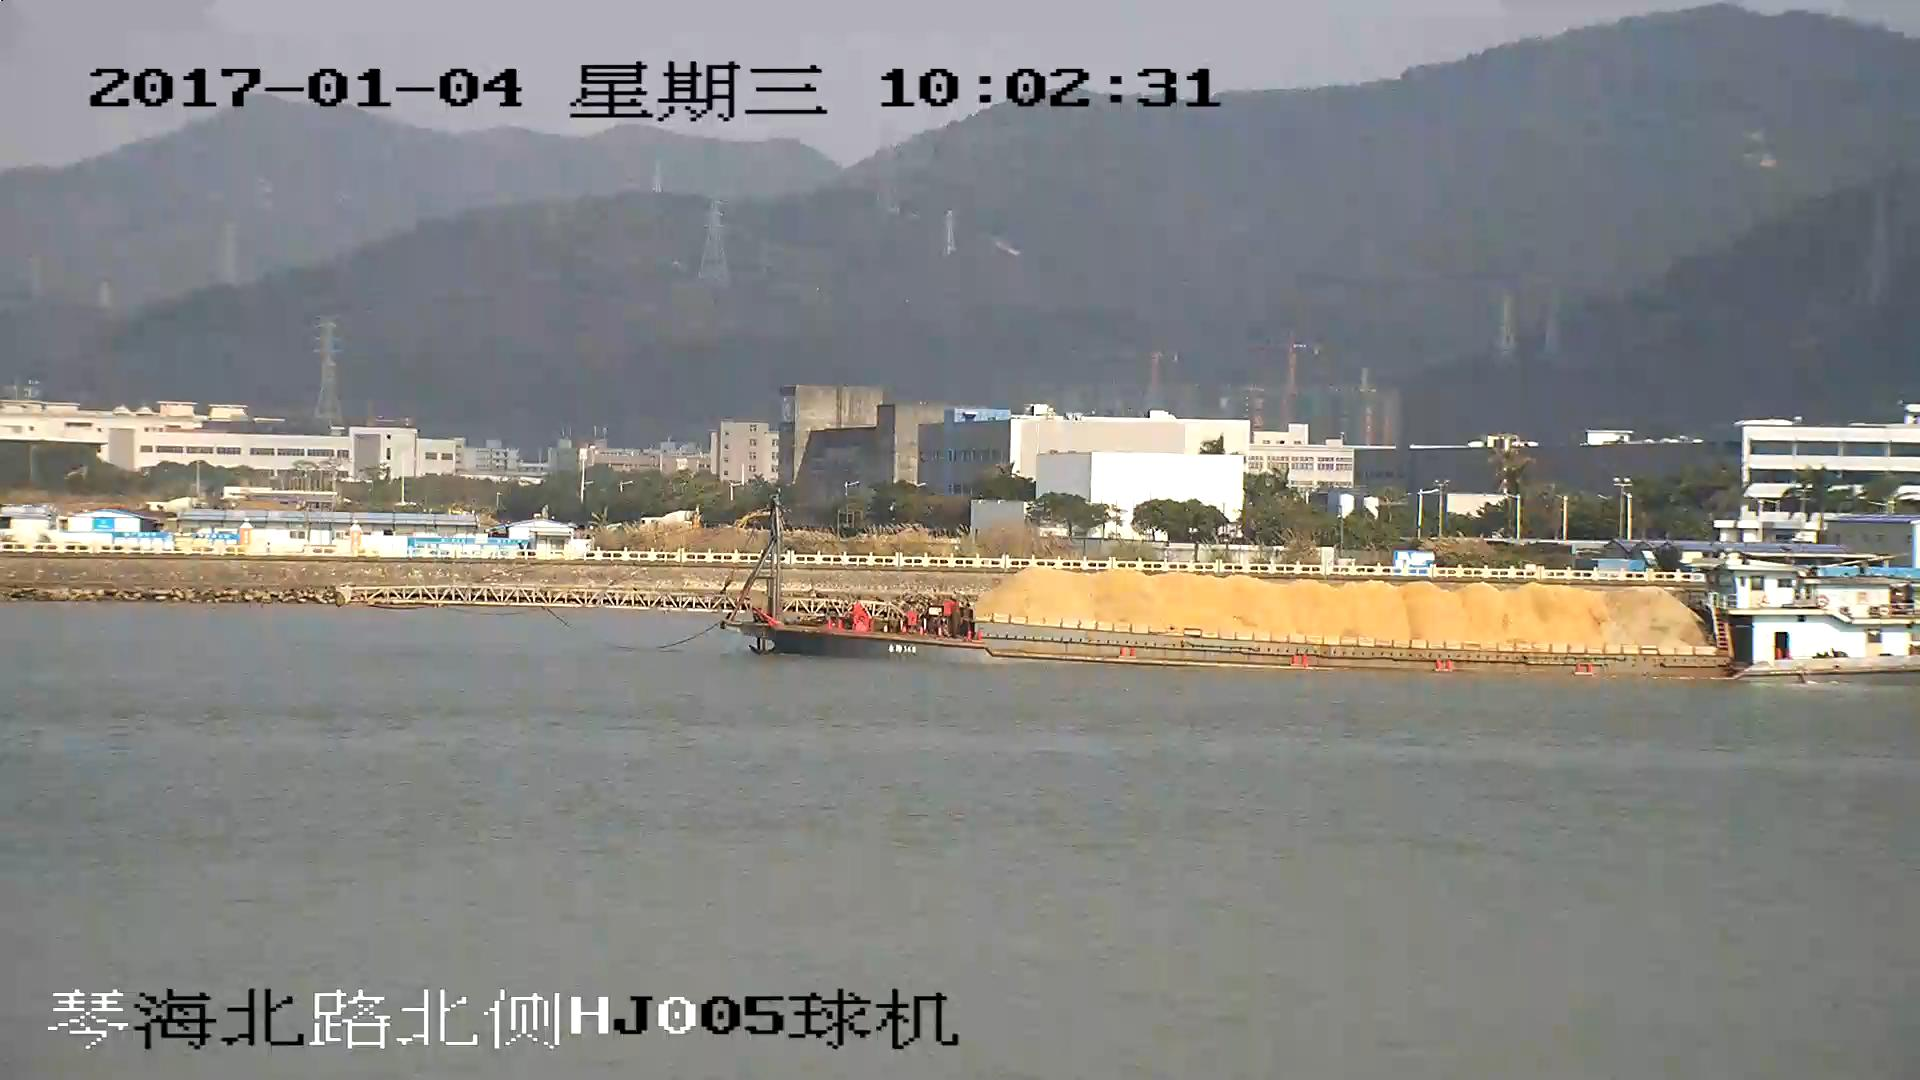ore carrier: (354, 493, 1920, 675)
